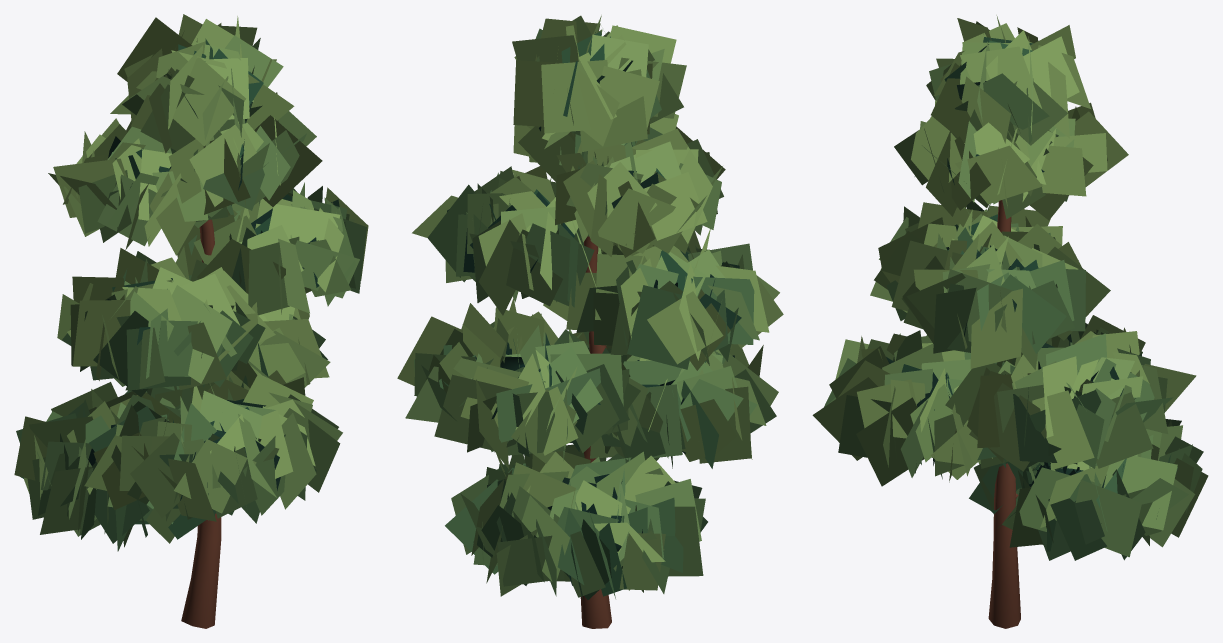
File: GardenPine.fbx
The picture shows the model from 3 angles, left to right: view 1: azimuth 30°, elevation 25°; view 2: azimuth 150°, elevation 25°; view 3: azimuth 270°, elevation 25°; orthographic projection.
Visible parts, largest first — view 1: GardenPine; view 2: GardenPine; view 3: GardenPine.
Boxes of the visible parts, left/top/right/bottom form: GardenPine: left=14, top=14, right=368, bottom=628; GardenPine: left=397, top=15, right=783, bottom=628; GardenPine: left=812, top=15, right=1208, bottom=628.
Bounding box in the file's own units: 3.28 × 5.75 × 3.44.
